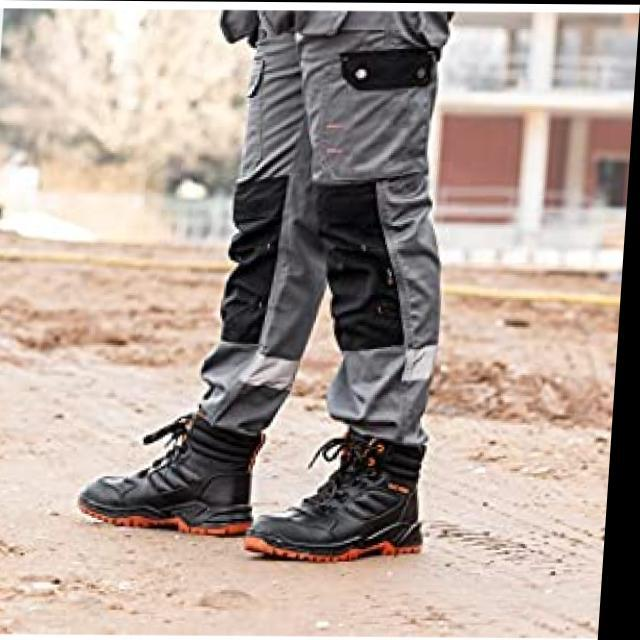shoes: (69, 407, 440, 566)
